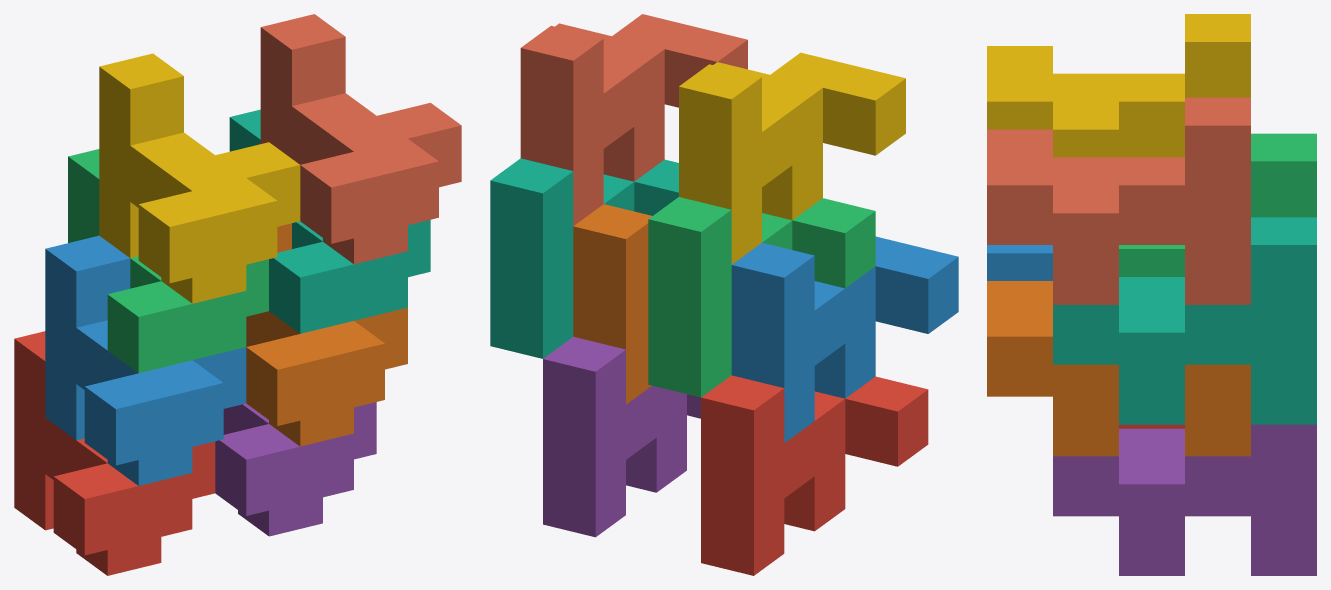
The model's file is tiling.obj.
The picture shows the model from 3 angles, left to right: view 1: azimuth 30°, elevation 25°; view 2: azimuth 150°, elevation 25°; view 3: azimuth 270°, elevation 25°; orthographic projection. The views are drawn at different scales.
Parts seen in each view (by area): view 1: copy_1_domain_4, copy_1_domain_8, copy_1_domain_2, copy_1_domain_1, copy_1_domain_6, copy_1_domain_3, copy_1_domain_5, copy_1_domain_7; view 2: copy_1_domain_4, copy_1_domain_1, copy_1_domain_2, copy_1_domain_8, copy_1_domain_3, copy_1_domain_5, copy_1_domain_7, copy_1_domain_6; view 3: copy_1_domain_8, copy_1_domain_7, copy_1_domain_5, copy_1_domain_4, copy_1_domain_6, copy_1_domain_3, copy_1_domain_2.
Part boxes in pixels (x1,y1,x2,y2): copy_1_domain_4: [99, 53, 300, 303]; copy_1_domain_8: [260, 14, 461, 264]; copy_1_domain_2: [45, 235, 246, 485]; copy_1_domain_1: [14, 331, 215, 575]; copy_1_domain_6: [246, 223, 407, 446]; copy_1_domain_3: [68, 149, 268, 373]; copy_1_domain_5: [215, 402, 376, 536]; copy_1_domain_7: [229, 109, 430, 333]; copy_1_domain_4: [679, 52, 905, 264]; copy_1_domain_1: [701, 375, 928, 575]; copy_1_domain_2: [731, 236, 958, 442]; copy_1_domain_8: [520, 14, 747, 225]; copy_1_domain_3: [648, 197, 875, 397]; copy_1_domain_5: [543, 336, 700, 537]; copy_1_domain_7: [490, 158, 678, 358]; copy_1_domain_6: [573, 204, 652, 404]; copy_1_domain_8: [987, 97, 1250, 304]; copy_1_domain_7: [1053, 217, 1316, 424]; copy_1_domain_5: [1053, 424, 1316, 575]; copy_1_domain_4: [987, 14, 1250, 157]; copy_1_domain_6: [987, 281, 1250, 456]; copy_1_domain_3: [1119, 133, 1316, 276]; copy_1_domain_2: [987, 245, 1052, 280].
Bounding box in the file's own units: 7 × 8 × 5.
